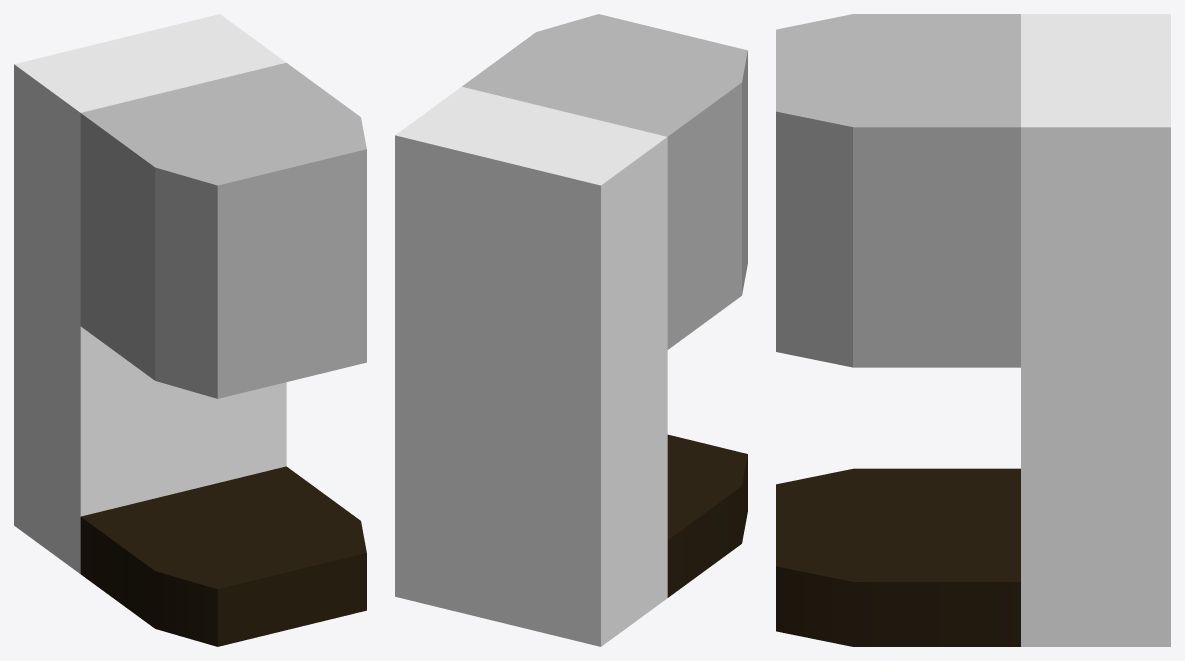
File: Itr_Obj_Coffeepot_Body_01.FBX
3 renders of one model, left to right at view 1: azimuth 30°, elevation 25°; view 2: azimuth 150°, elevation 25°; view 3: azimuth 270°, elevation 25°, orthographic. The views are drawn at different scales.
Parts seen in each view (by area): view 1: Itr_Obj_Coffeepot_Body_01; view 2: Itr_Obj_Coffeepot_Body_01; view 3: Itr_Obj_Coffeepot_Body_01.
Boxes of the visible parts, x1=… form: Itr_Obj_Coffeepot_Body_01: x1=14, y1=14, x2=366, y2=646; Itr_Obj_Coffeepot_Body_01: x1=395, y1=14, x2=747, y2=646; Itr_Obj_Coffeepot_Body_01: x1=776, y1=14, x2=1170, y2=646.
Bounding box in the file's own units: 7.13 × 15.27 × 10.52.
